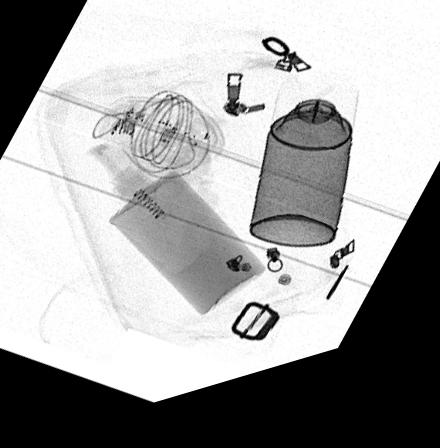Sprayer: (249, 89, 358, 266)
